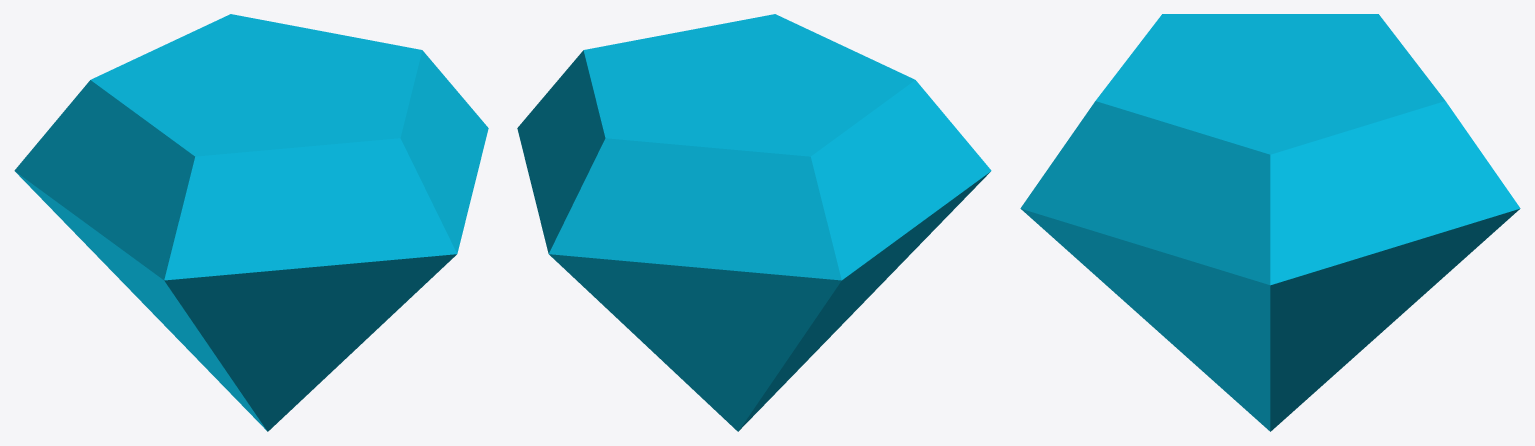
The model's file is diamond_2.fbx.
3 renders of one model, left to right at view 1: azimuth 30°, elevation 25°; view 2: azimuth 150°, elevation 25°; view 3: azimuth 270°, elevation 25°, orthographic. The views are drawn at different scales.
Visible parts, largest first — view 1: diamond_2; view 2: diamond_2; view 3: diamond_2.
Part boxes in pixels (x1,y1,x2,y2): diamond_2: (14, 14, 488, 431); diamond_2: (517, 14, 991, 431); diamond_2: (1020, 14, 1520, 431).
Size of the model in its own units: 226 by 186 by 238.
